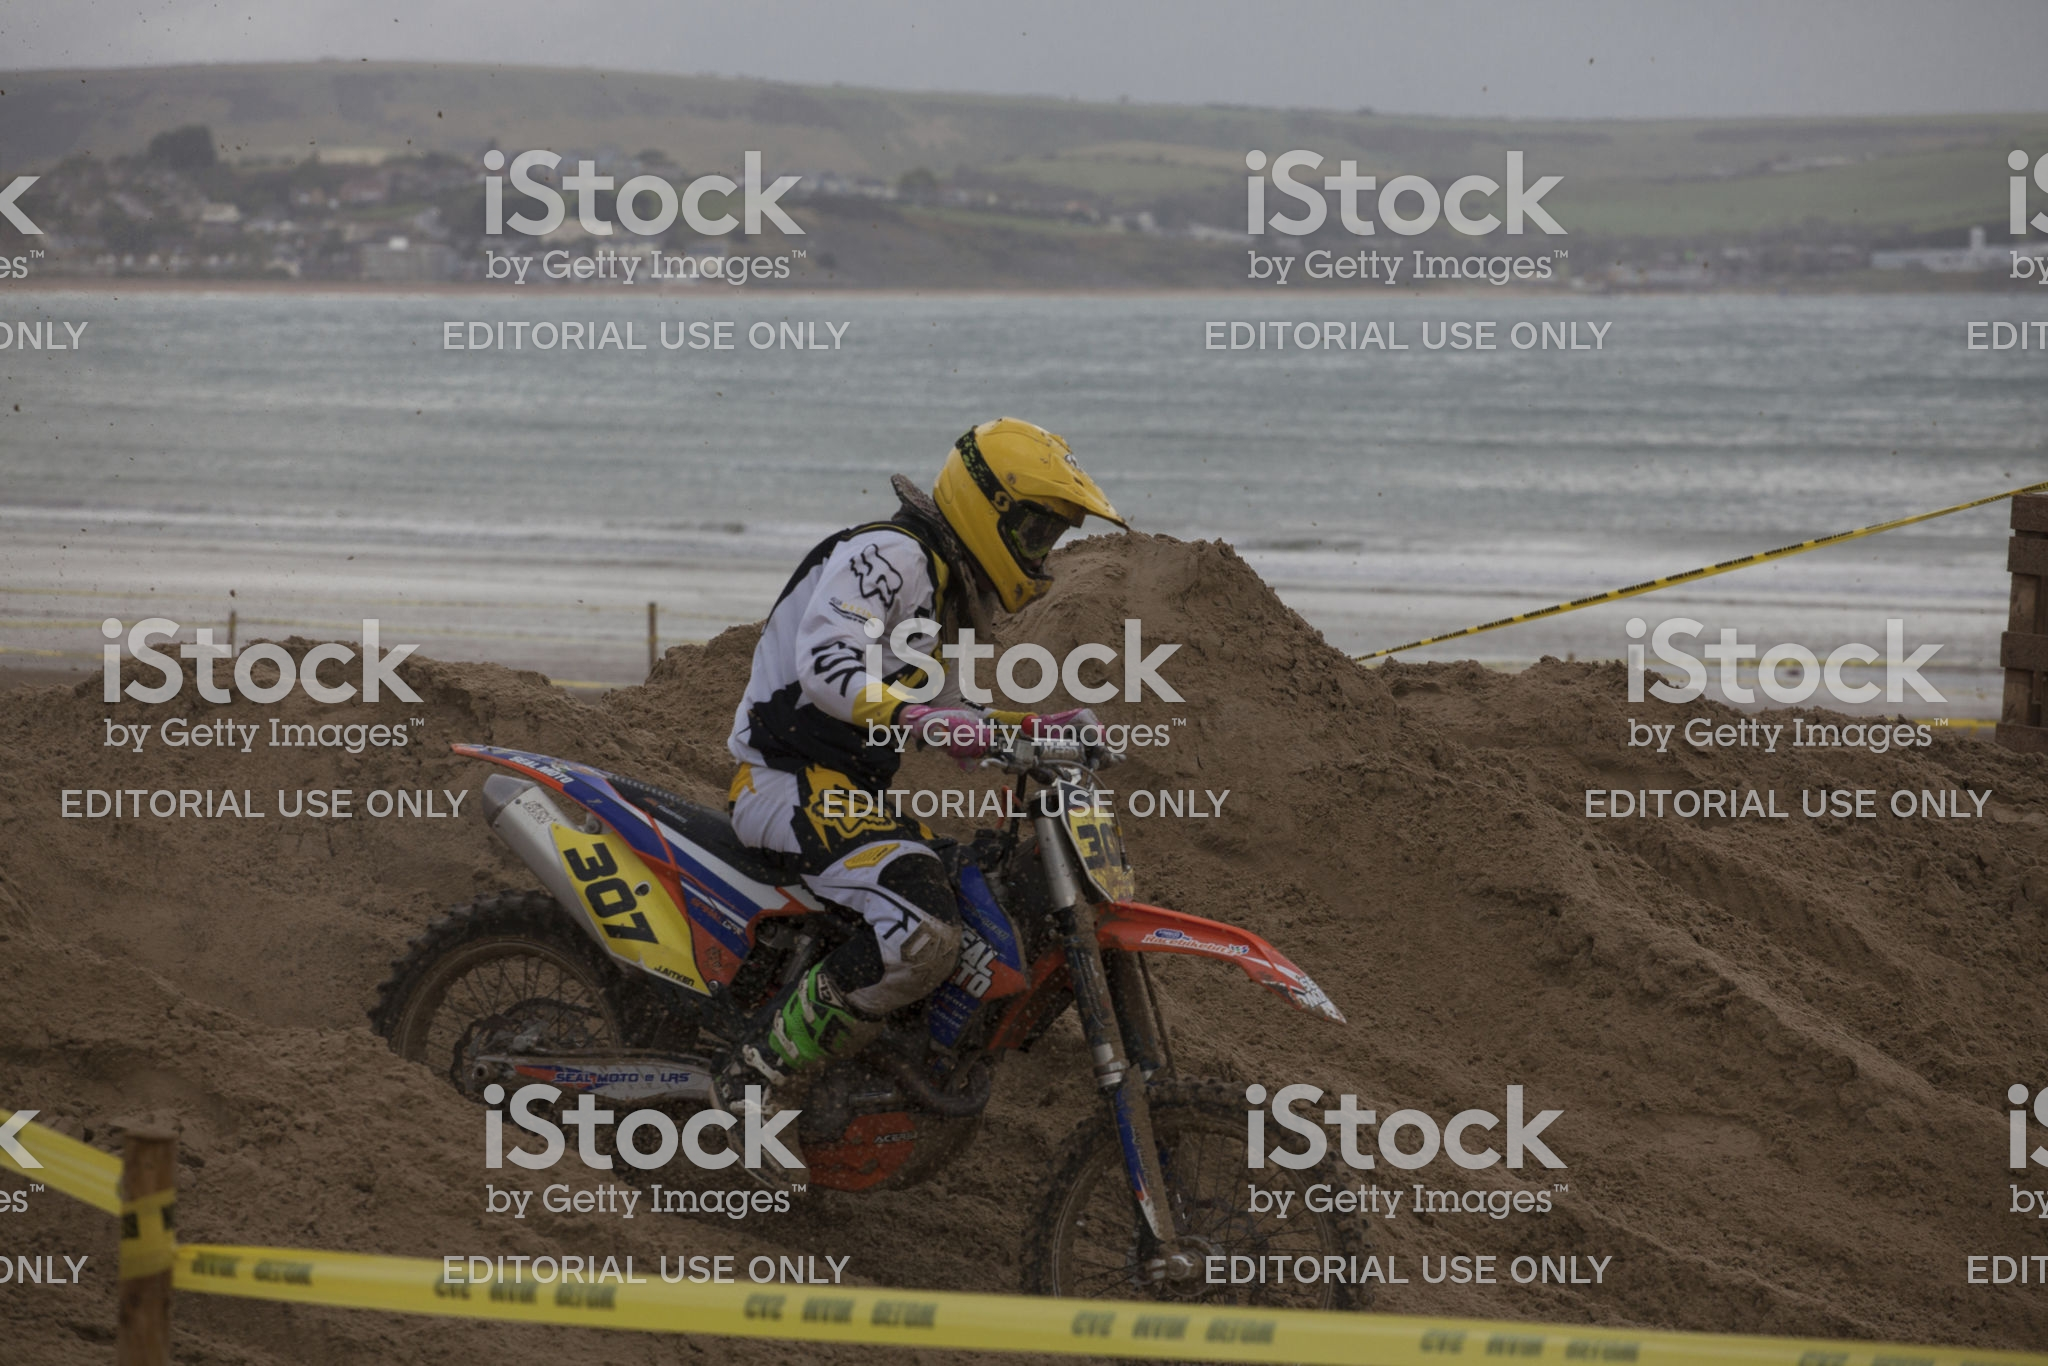helmet: (913, 419, 1123, 608)
